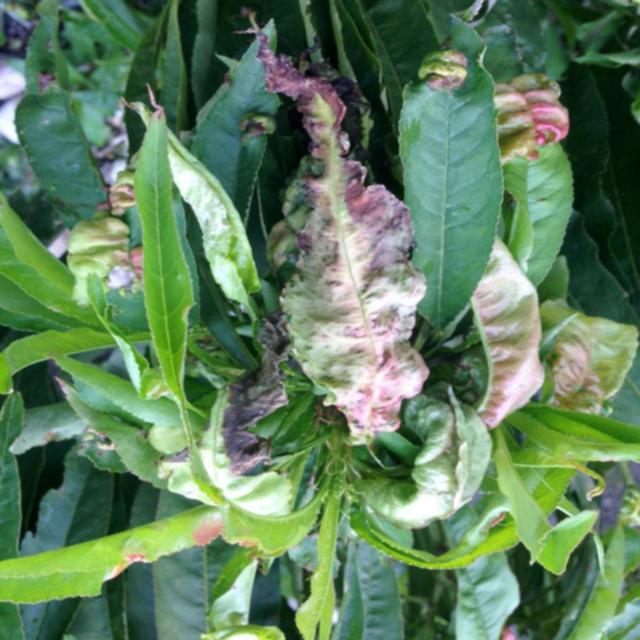peach_leaf_curl: (240, 48, 533, 530)
